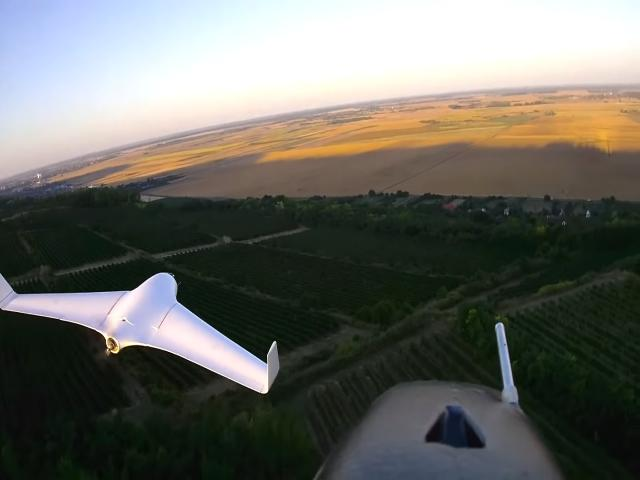plane: (0, 273, 279, 393)
